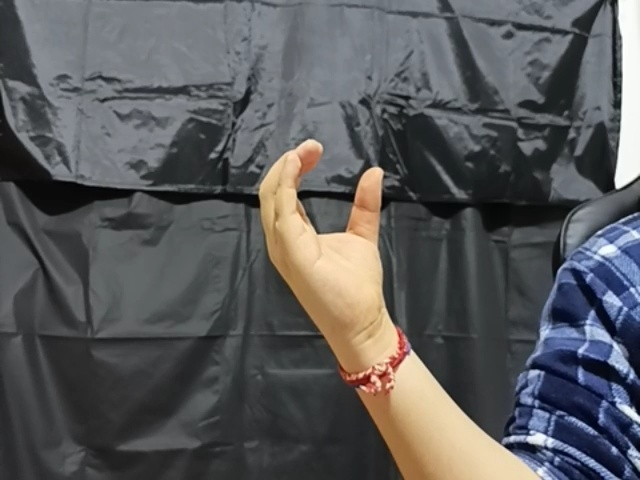C: (254, 132, 394, 312)
